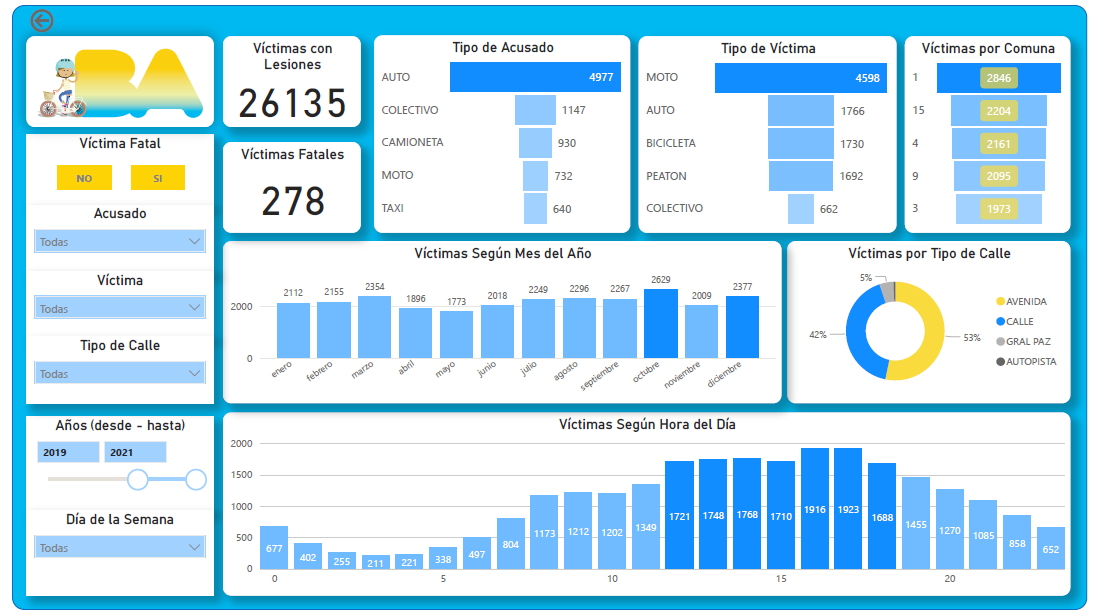

This screenshot's page, from the dashboard's own definition file:
{"tool":"powerbi","page":{"name":"Página 4","canvas":[1280,720],"ordinal":3},"visuals":[{"type":"shape","box":[0,0,1280.2,720],"z":0},{"type":"funnel","title":"Accidentes por Tipo de Acusado","fields":{"Category":["siniestrosEDA.ACUSADO"],"Y":["CountNonNull(siniestrosEDA.ACUSADO)"]},"box":[430.6,36,305.3,234.7],"z":1000},{"type":"funnel","title":"Accidentes por Tipo de Víctima","fields":{"Category":["siniestrosEDA.VICTIMA"],"Y":["CountNonNull(siniestrosEDA.VICTIMA)"]},"box":[745.9,37.4,306.7,233.3],"z":2000},{"type":"funnel","title":"Accidentes por Comuna","fields":{"Category":["siniestrosEDA.COMUNA"],"Y":["CountNonNull(siniestrosEDA.COMUNA)"]},"box":[1062.7,37.4,197.3,233.3],"z":3000},{"type":"slicer","title":"Víctima Fatal","fields":{"Values":["siniestrosEDA.FATAL - Copia"]},"box":[17.3,154.1,223.2,83.5],"z":4000},{"type":"slicer","title":"Años (desde - hasta)","fields":{"Values":["siniestrosEDA.FECHA.Variación.Jerarquía de fechas.Año"]},"box":[17.3,489.6,223.2,112.3],"z":5000},{"type":"slicer","title":"Día de la Semana","fields":{"Values":["siniestrosEDA.DIA_SEMANA"]},"box":[17.3,601.9,223.2,100.8],"z":6000},{"type":"donutChart","title":"Víctimas por Tipo de Calle","fields":{"Category":["siniestrosEDA.TIPO_CALLE"],"Y":["CountNonNull(siniestrosEDA.TIPO_CALLE)"]},"box":[922.5,281.2,337.5,192.5],"z":7000},{"type":"columnChart","title":"Víctimas Según Hora del Día","fields":{"Category":["siniestrosEDA.H"],"Y":["Sum(siniestrosEDA.VICTIMAS)"]},"box":[250.6,485.3,1009.4,217.4],"z":8000},{"type":"clusteredColumnChart","title":"Víctimas Según Mes del Año","fields":{"Category":["siniestrosEDA.FECHA.Variación.Jerarquía de fechas.Mes"],"Y":["Sum(siniestrosEDA.VICTIMAS)"]},"box":[250.6,280.8,665.3,193],"z":9000},{"type":"slicer","title":"Acusado","fields":{"Values":["siniestrosEDA.ACUSADO"]},"box":[17.3,237.6,223.2,79.2],"z":10000},{"type":"slicer","title":"Víctima","fields":{"Values":["siniestrosEDA.VICTIMA"]},"box":[17.3,316.8,223.2,77.8],"z":11000},{"type":"slicer","title":"Tipo de Calle","fields":{"Values":["siniestrosEDA.TIPO_CALLE"]},"box":[17.3,394.6,223.2,79.2],"z":12000},{"type":"card","title":"Víctimas con Lesiones","fields":{"Values":["Sum(siniestrosEDA.VICTIMAS)"]},"box":[250.6,37.4,164.2,108],"z":13000},{"type":"card","title":"Víctimas Fatales","fields":{"Values":["Sum(siniestrosEDA.FATAL)"]},"box":[250.6,162.7,164.2,108],"z":14000},{"type":"image","box":[17.3,37.4,223.2,108],"z":15000},{"type":"actionButton","box":[17.3,0,50.4,37.4],"z":16000}]}

Visuals, with their boxes in screenshot pixels (x1, y1, x2, y2), scaled from the page's 1280x720 canvas onto the 1096x616 screenshot:
shape: x1=0 y1=0 x2=1095 y2=615
"Accidentes por Tipo de Acusado" funnel: x1=369 y1=31 x2=630 y2=232
"Accidentes por Tipo de Víctima" funnel: x1=639 y1=32 x2=901 y2=232
"Accidentes por Comuna" funnel: x1=910 y1=32 x2=1079 y2=232
"Víctima Fatal" slicer: x1=15 y1=132 x2=206 y2=203
"Años (desde - hasta)" slicer: x1=15 y1=419 x2=206 y2=515
"Día de la Semana" slicer: x1=15 y1=515 x2=206 y2=601
"Víctimas por Tipo de Calle" donutChart: x1=790 y1=241 x2=1079 y2=405
"Víctimas Según Hora del Día" columnChart: x1=215 y1=415 x2=1079 y2=601
"Víctimas Según Mes del Año" clusteredColumnChart: x1=215 y1=240 x2=784 y2=405
"Acusado" slicer: x1=15 y1=203 x2=206 y2=271
"Víctima" slicer: x1=15 y1=271 x2=206 y2=338
"Tipo de Calle" slicer: x1=15 y1=338 x2=206 y2=405
"Víctimas con Lesiones" card: x1=215 y1=32 x2=355 y2=124
"Víctimas Fatales" card: x1=215 y1=139 x2=355 y2=232
image: x1=15 y1=32 x2=206 y2=124
actionButton: x1=15 y1=0 x2=58 y2=32
